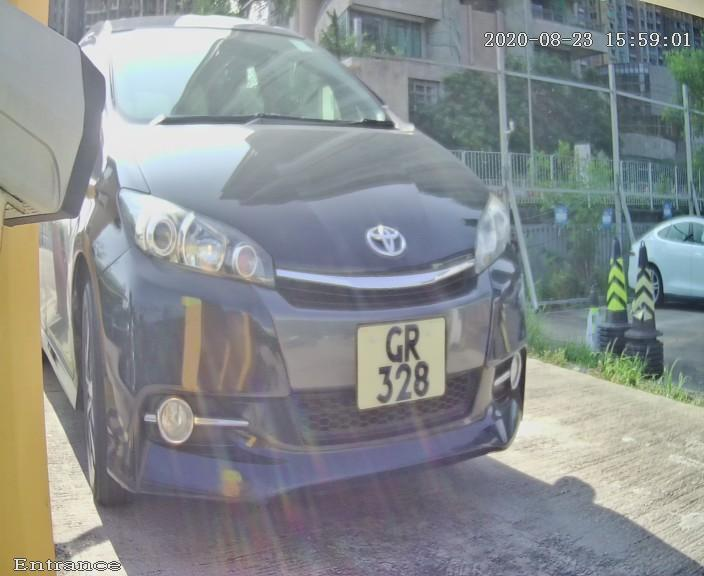Car: (45, 6, 573, 559)
License Plate: (349, 301, 459, 422)
